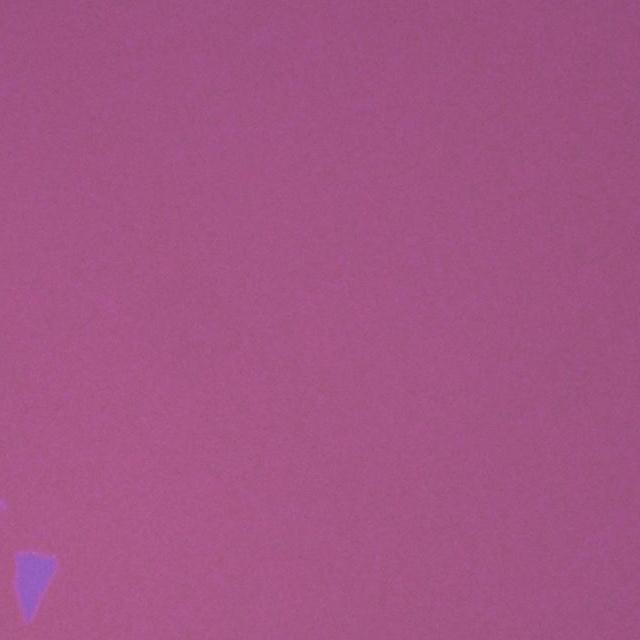monolayer-eWW4: (13, 548, 56, 622)
